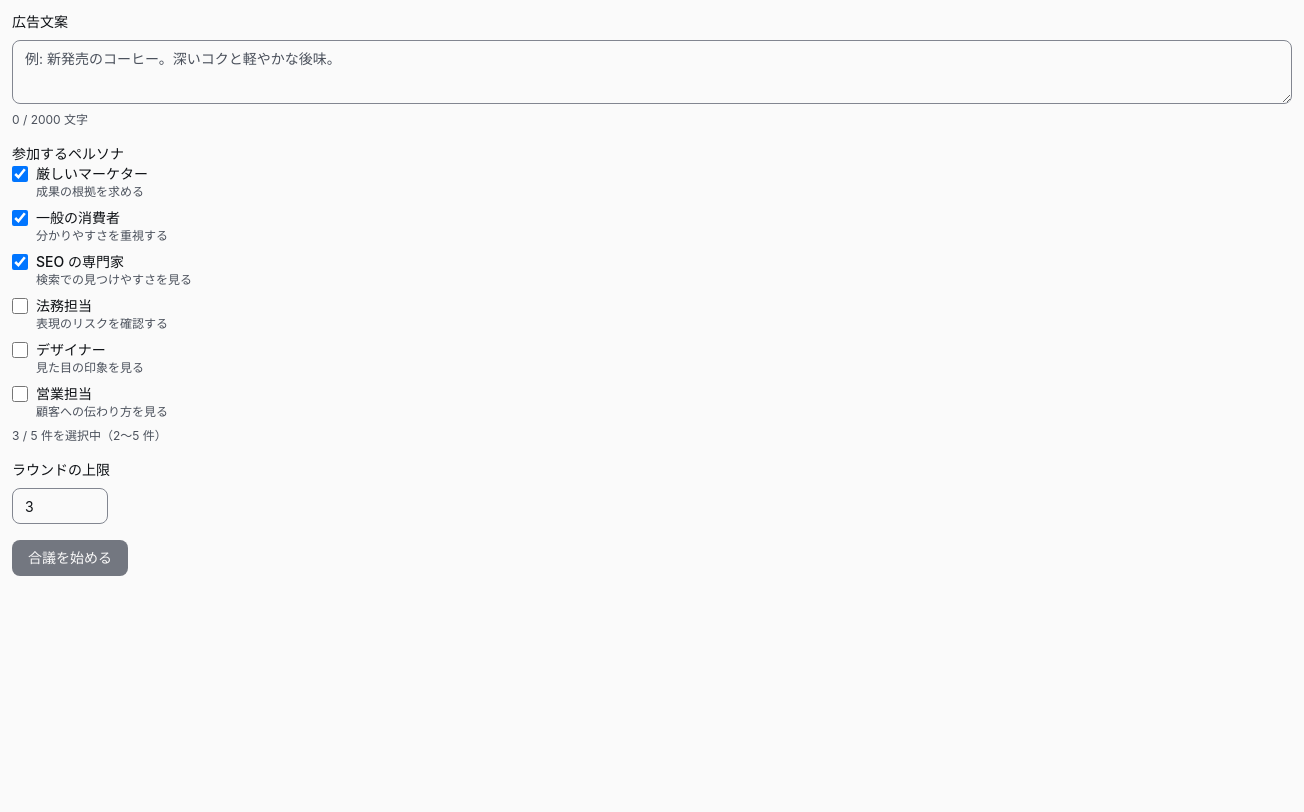
persona selection › blocks sending with fewer than 2 personas
Type "文案" into the text box labelled "広告文案".
click(652, 72); type("文案")  # box [12,40,1292,104]
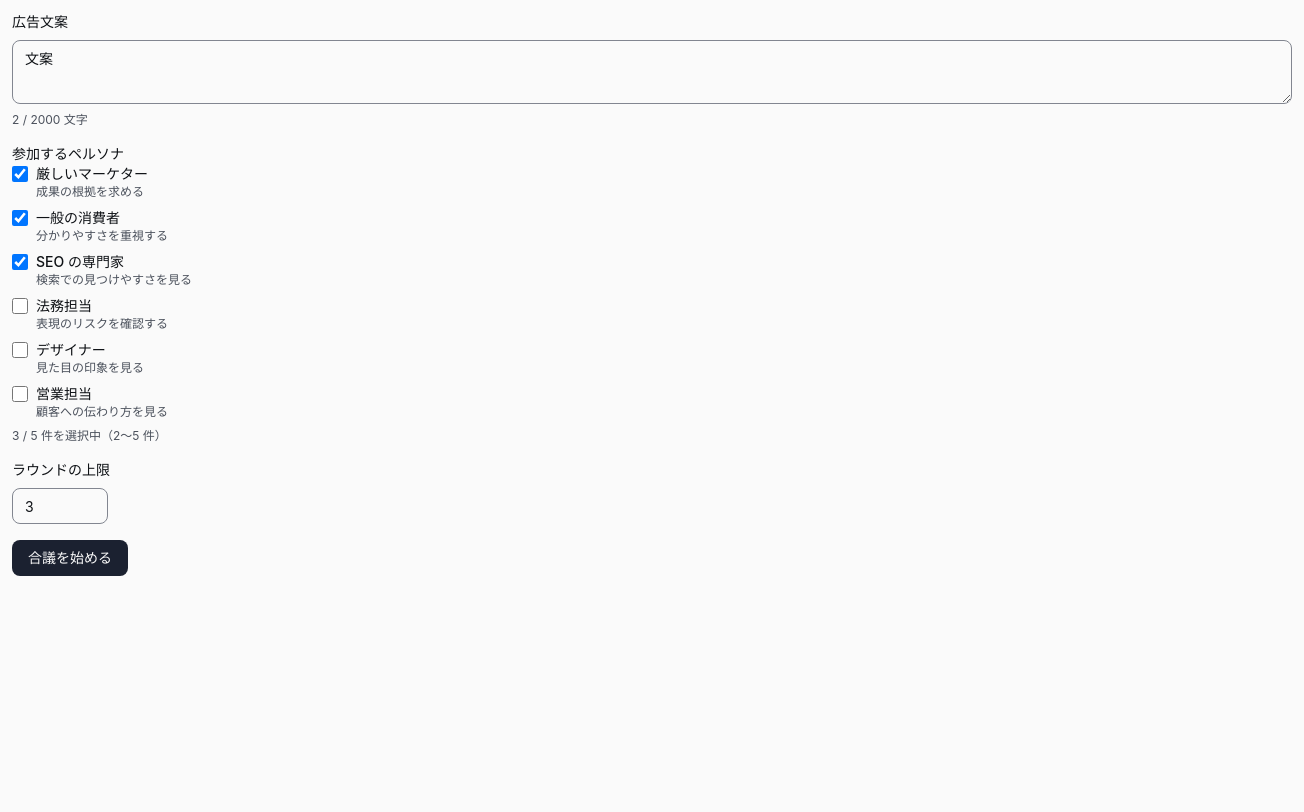
Click the checkbox labelled "一般の消費者".
click(20, 218)  # box [12,210,28,226]
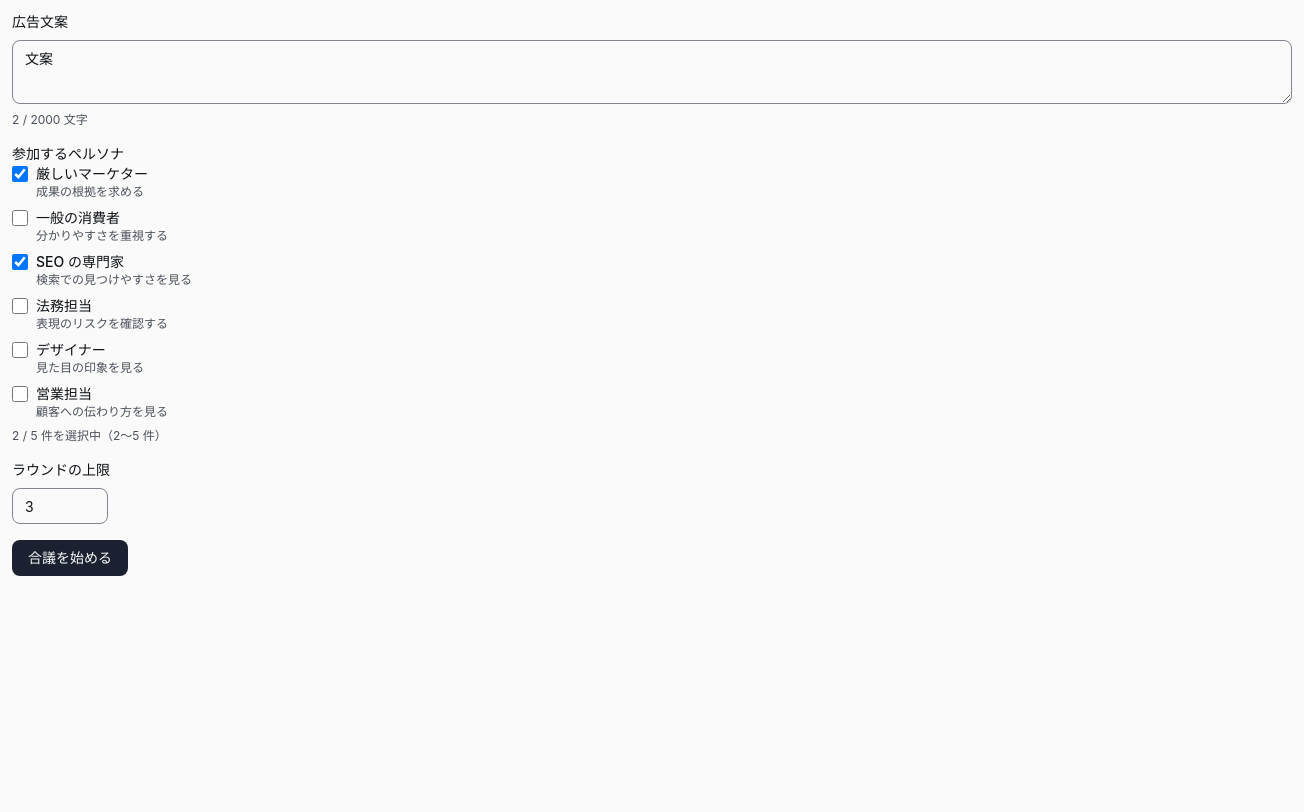
Result: the button "合議を始める" is enabled at [12,540,128,576]
Click the checkbox labelled "SEO の専門家".
click(20, 262)  # box [12,254,28,270]
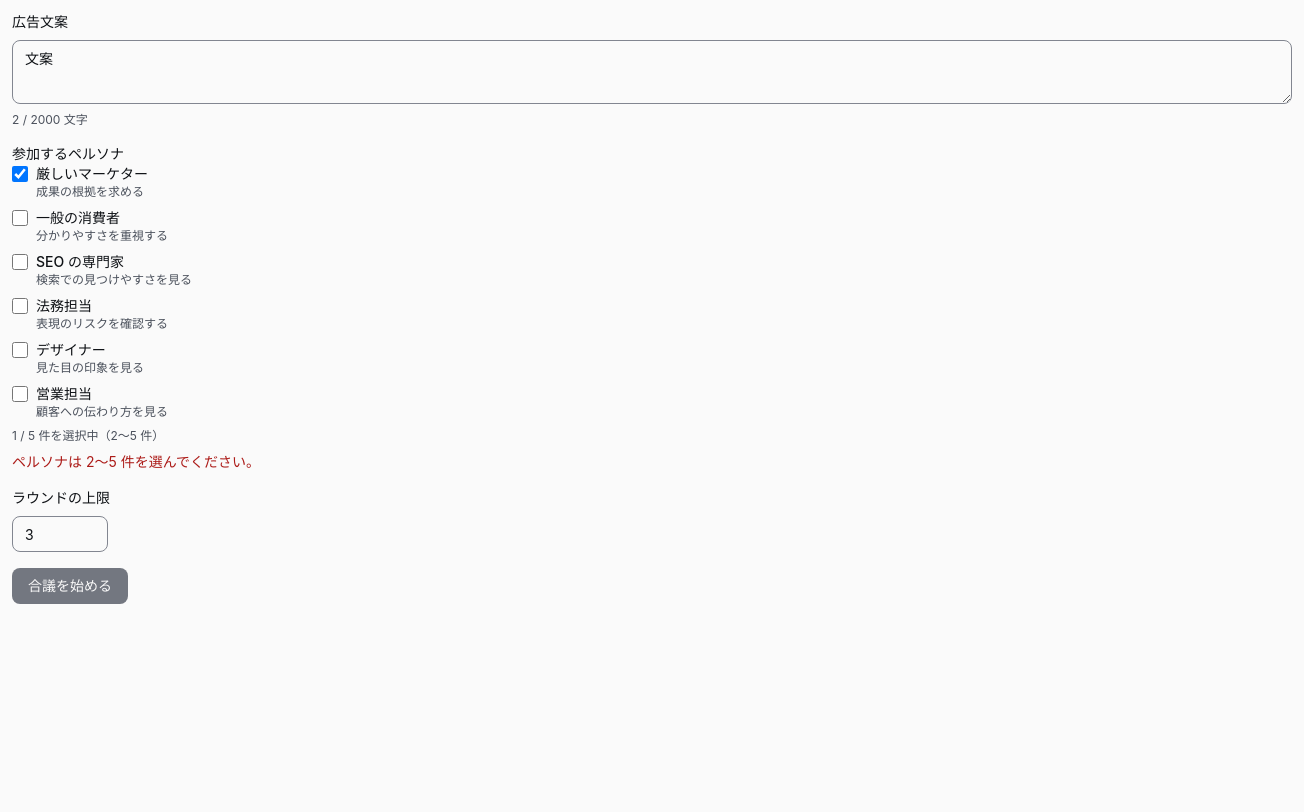
Result: the button "合議を始める" is disabled at [12,568,128,604]
Result: the message shows "ペルソナは 2〜5 件を選んでください" at [12,453,260,470]
